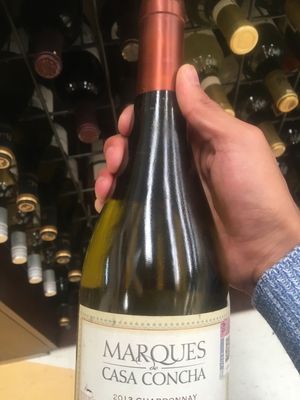marques de casa concha chardonnay: (72, 10, 236, 400)
